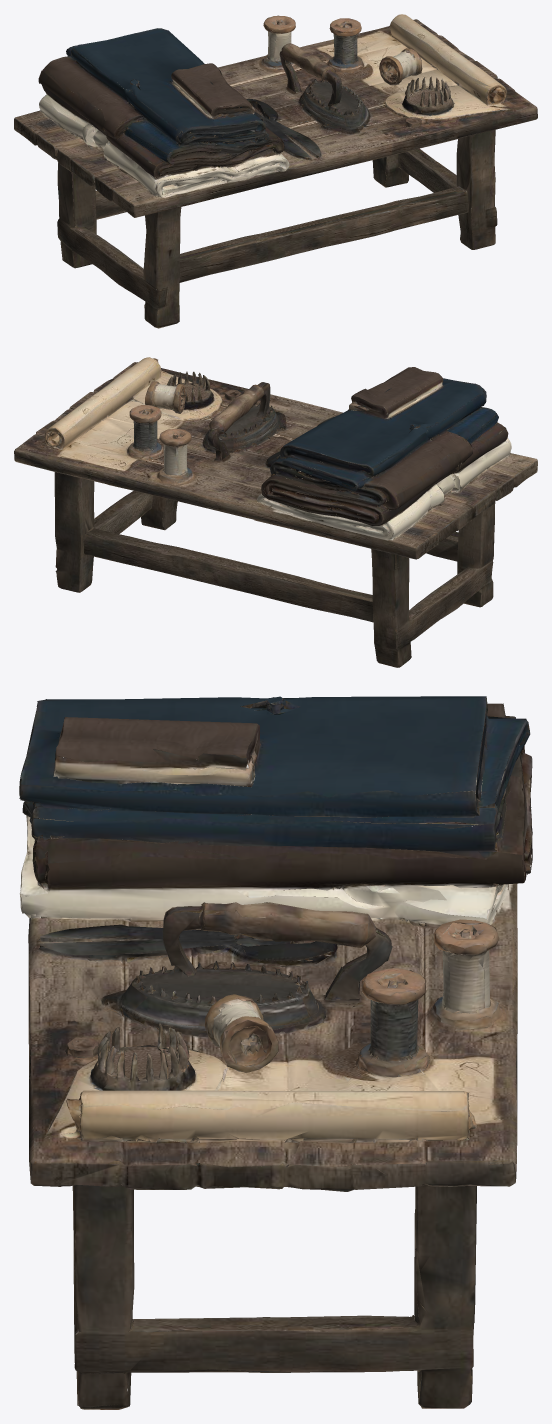
File: tailor-workbench-stock.glb
3 views of the same model, one above another, from view 1: azimuth 30°, elevation 25°; view 2: azimuth 150°, elevation 25°; view 3: azimuth 270°, elevation 25° (orthographic). The views are drawn at different scales.
Visible parts, largest first — view 1: Mesh_0; view 2: Mesh_0; view 3: Mesh_0.
Boxes of the visible parts, bbox=[...] form: Mesh_0: bbox=[14, 14, 537, 328]; Mesh_0: bbox=[14, 357, 537, 667]; Mesh_0: bbox=[19, 696, 532, 1409].
Bounding box in the file's own units: 1.9 × 0.945 × 1.04.
Materials: 1 (1 with a texture image).
